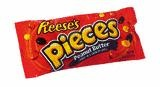grozi_31: (15, 7, 144, 78)
